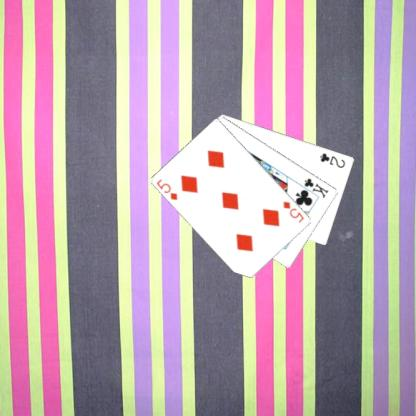2C: (317, 150, 347, 169)
5D: (281, 198, 306, 224), (154, 176, 179, 202)
KC: (296, 175, 330, 199)
